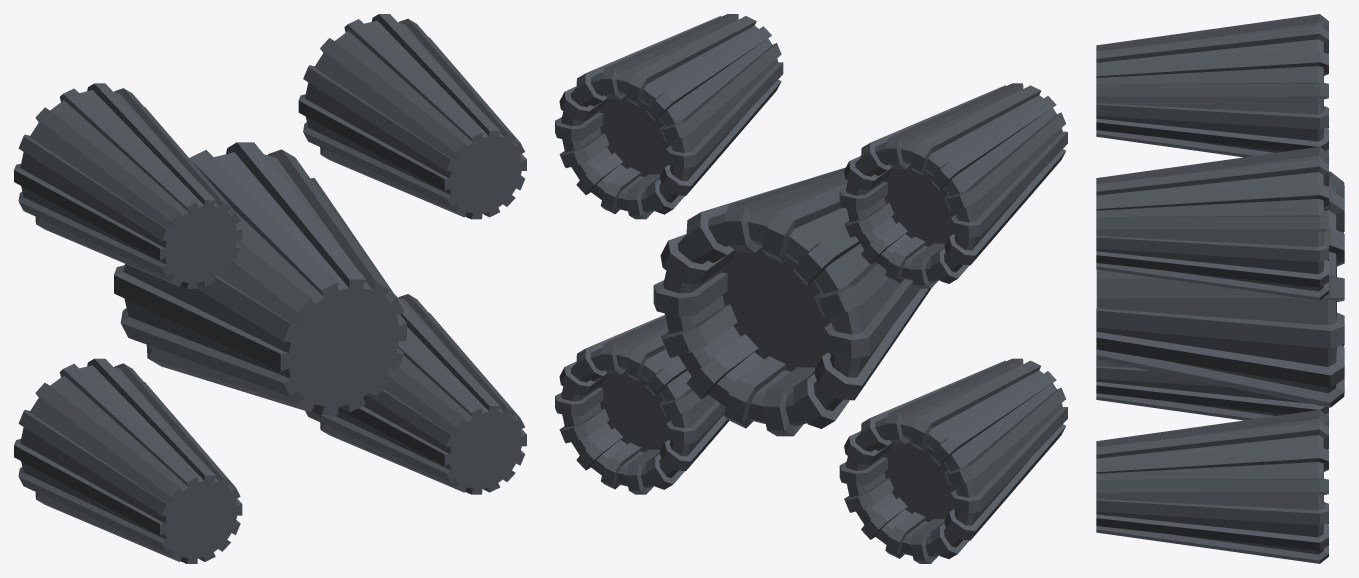
File: Dropship_04_Thrusters_Blue.fbx
The picture shows the model from 3 angles, left to right: view 1: azimuth 30°, elevation 25°; view 2: azimuth 150°, elevation 25°; view 3: azimuth 270°, elevation 25°; orthographic projection. The views are drawn at different scales.
Visible parts, largest first — view 1: Dropship_04_Thrusters_Blue; view 2: Dropship_04_Thrusters_Blue; view 3: Dropship_04_Thrusters_Blue.
Part boxes in pixels (bbox=[...]): Dropship_04_Thrusters_Blue: bbox=[14, 14, 526, 563]; Dropship_04_Thrusters_Blue: bbox=[555, 14, 1067, 563]; Dropship_04_Thrusters_Blue: bbox=[1096, 14, 1344, 563].
Bounding box in the file's own units: 281 × 266 × 149.
Materials: 1 (1 with a texture image).
